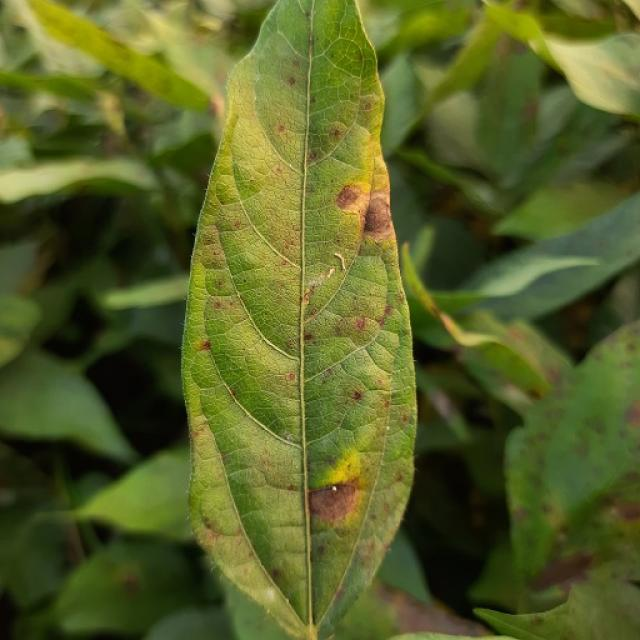Anthracnose: (307, 481, 354, 529), (313, 449, 363, 490), (197, 496, 240, 538), (362, 193, 395, 238), (335, 313, 375, 341), (334, 183, 365, 213), (114, 564, 142, 593), (612, 498, 640, 522), (622, 399, 640, 430), (377, 303, 393, 325), (574, 437, 590, 459), (193, 339, 211, 352), (306, 150, 320, 166), (332, 585, 344, 603), (203, 520, 216, 533), (352, 390, 362, 400), (270, 568, 280, 578), (286, 372, 295, 381), (332, 128, 341, 137), (288, 76, 296, 86), (303, 334, 313, 341)
Blackgram: (182, 0, 416, 639)
